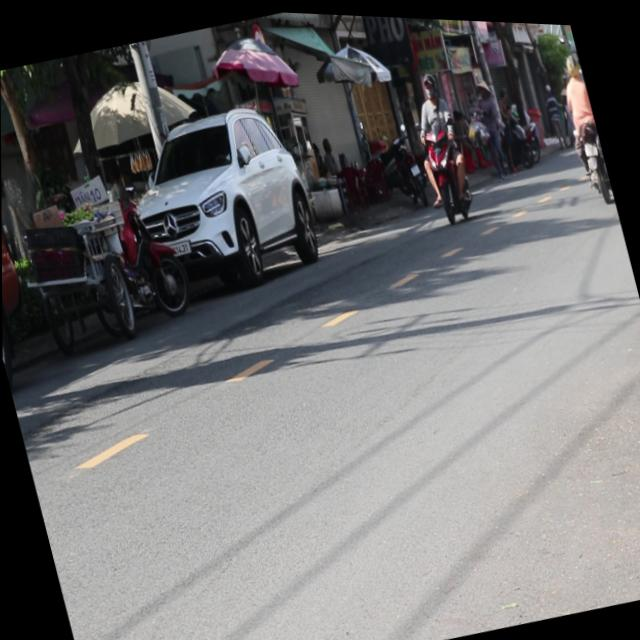helmet: (418, 65, 439, 98)
licenseplate: (401, 60, 480, 225)
